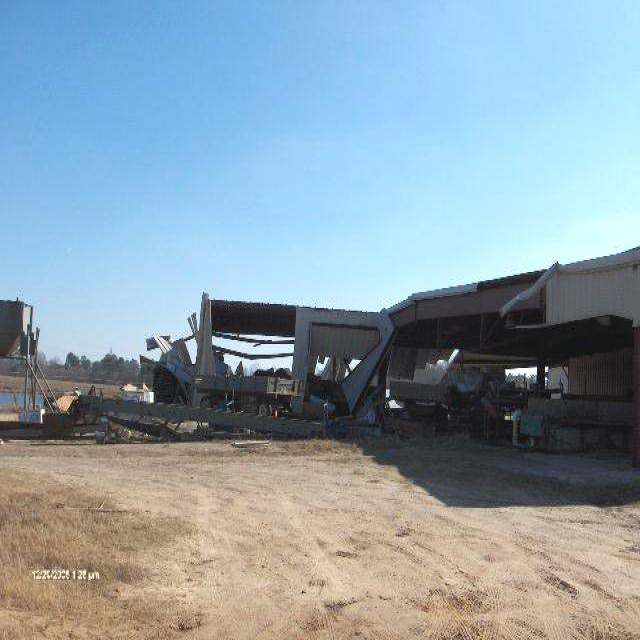Severely_Damaged: (156, 238, 640, 485)
